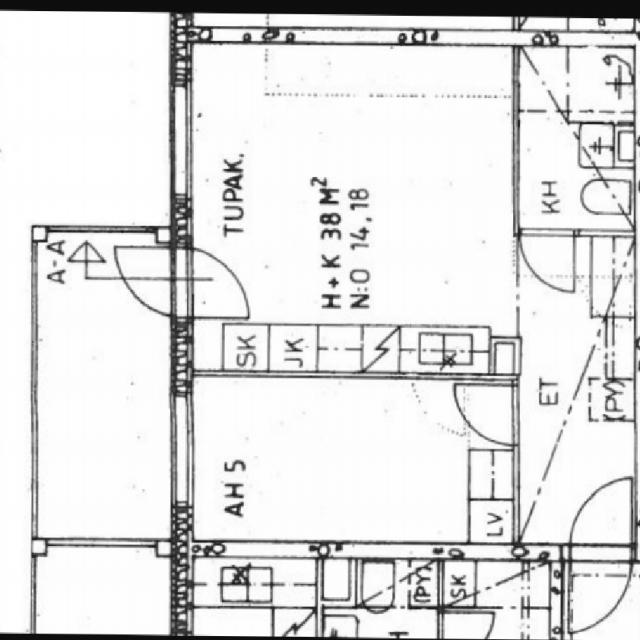door: (170, 248, 257, 316), (105, 248, 191, 316), (569, 478, 631, 558), (569, 542, 631, 622), (454, 384, 520, 446), (521, 228, 574, 291)
